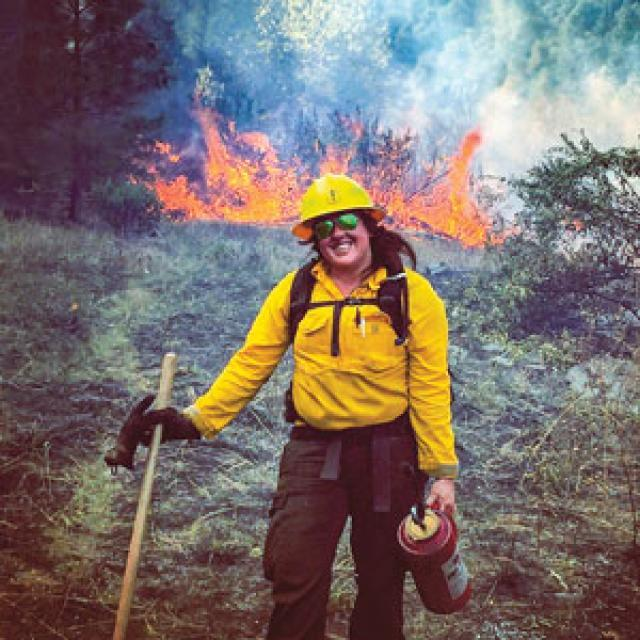Fire: (128, 94, 522, 250)
